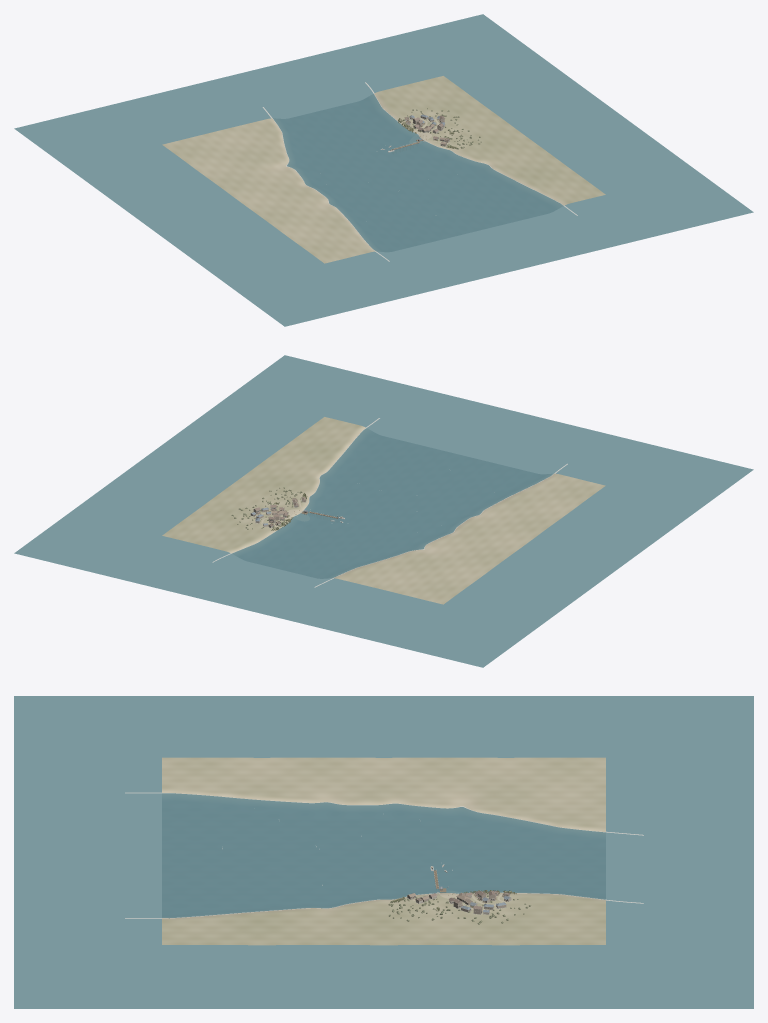
File: coast.glb
3 renders of one model, top to bottom at view 1: azimuth 30°, elevation 25°; view 2: azimuth 150°, elevation 25°; view 3: azimuth 270°, elevation 25°, orthographic. The views are drawn at different scales.
Visible parts, largest first — view 1: ENV_Water, ENV_Terrain; view 2: ENV_Water, ENV_Terrain; view 3: ENV_Water, ENV_Terrain, FX_ShoreFoam.
Boxes of the visible parts, x1,y1,x2,y2 form: ENV_Water: (14,14,753,326); ENV_Terrain: (162,76,605,263); ENV_Water: (14,355,753,667); ENV_Terrain: (162,417,605,604); ENV_Water: (14,696,753,1008); ENV_Terrain: (162,757,605,945); FX_ShoreFoam: (125,792,643,918).
Size of the model in its own units: 800 by 17.29 by 800.
